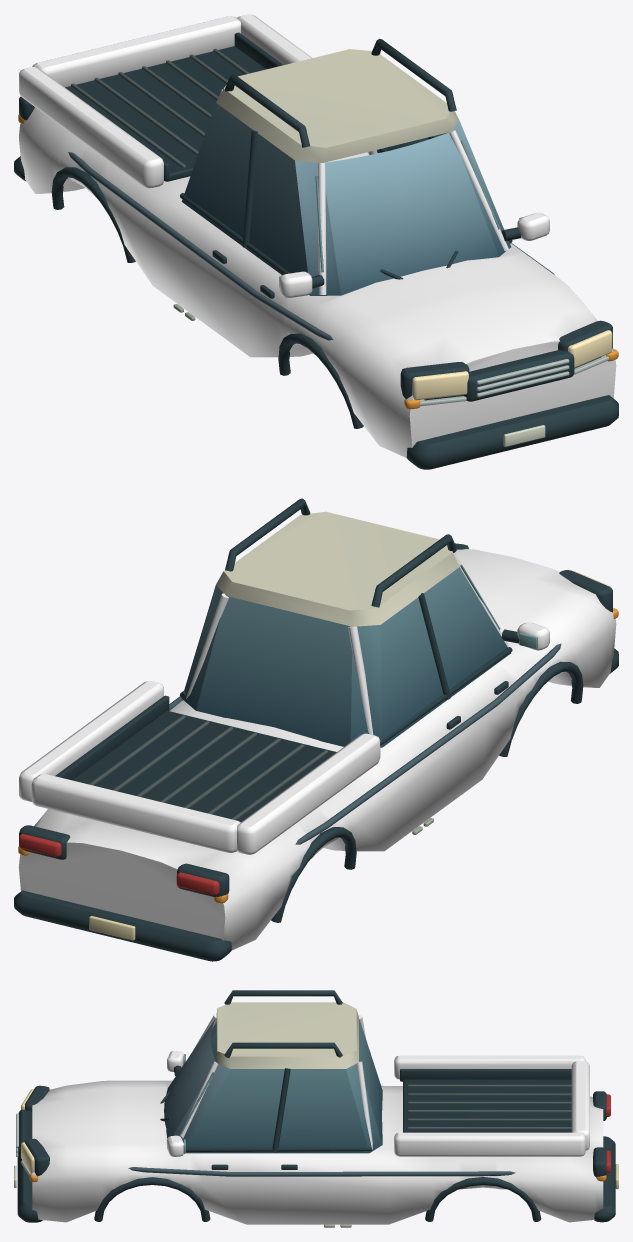
File: mesa.glb
The picture shows the model from 3 angles, top to bottom: view 1: azimuth 30°, elevation 25°; view 2: azimuth 150°, elevation 25°; view 3: azimuth 270°, elevation 25°; orthographic projection. The views are drawn at different scales.
Parts seen in each view (by area): view 1: Chassis, Headlamps; view 2: Chassis, BrakeLamps; view 3: Chassis, Headlamps.
Part boxes in pixels (box(x1,y1,x2,y2)): Chassis: box(14, 14, 618, 469); Headlamps: box(412, 330, 612, 400); Chassis: box(14, 498, 618, 961); BrakeLamps: box(19, 834, 219, 895); Chassis: box(14, 990, 618, 1227); Headlamps: box(21, 1089, 34, 1173).
Size of the model in its own units: 1.91 by 1.61 by 5.14.
